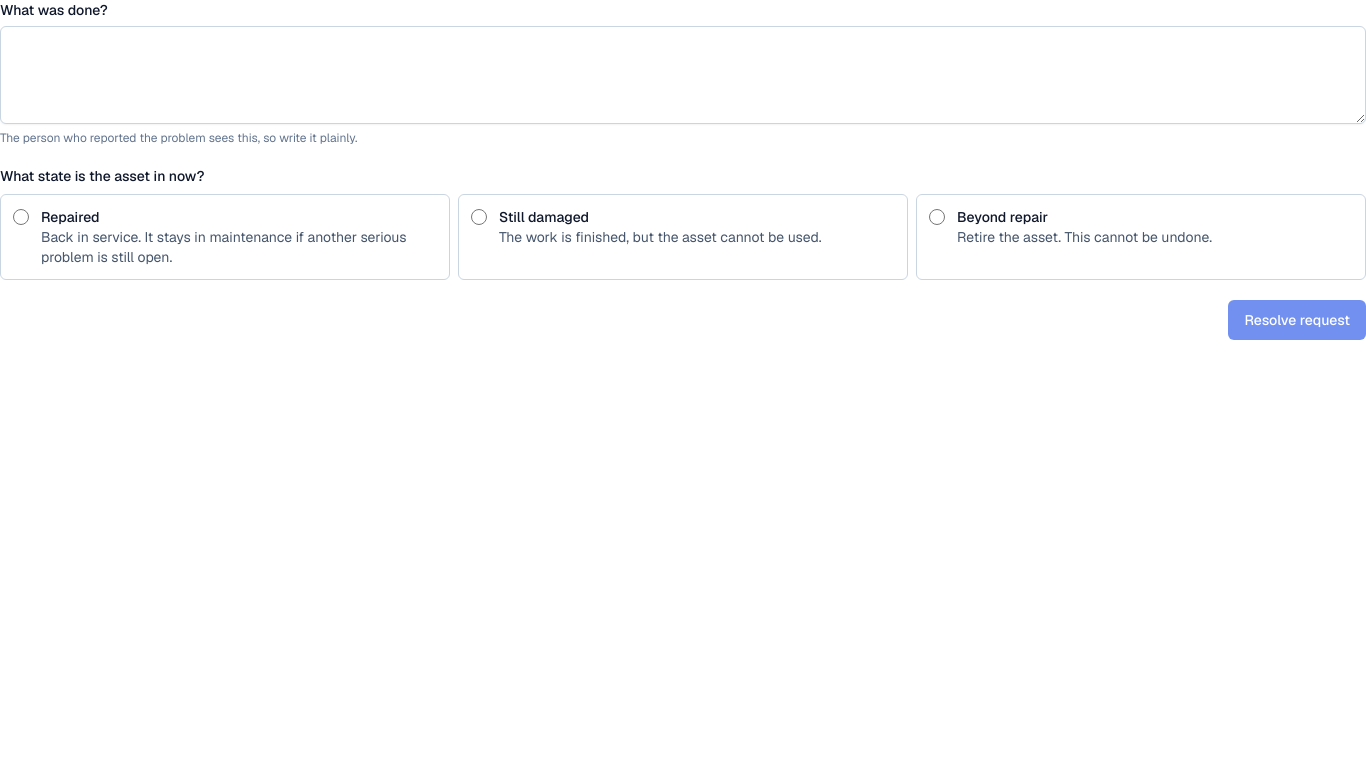
ResolveForm › asks_before_retiring_the_asset
In the text box labelled "What was done?": (683, 75) left=0, top=26, right=1365, bottom=124, type "Board burnt out"
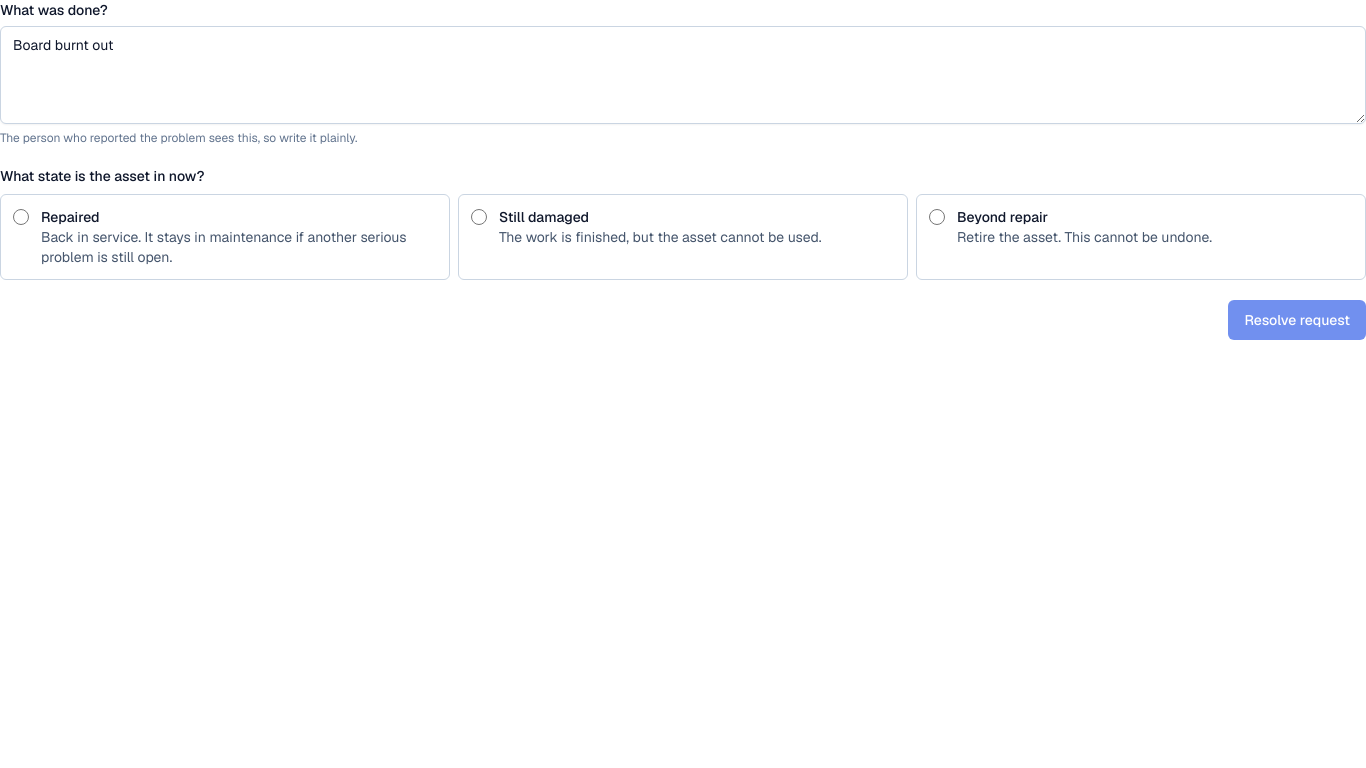
Click the radio button labelled "Beyond repair Retire the asset. This cannot be undone.": (937, 217) left=929, top=209, right=945, bottom=225
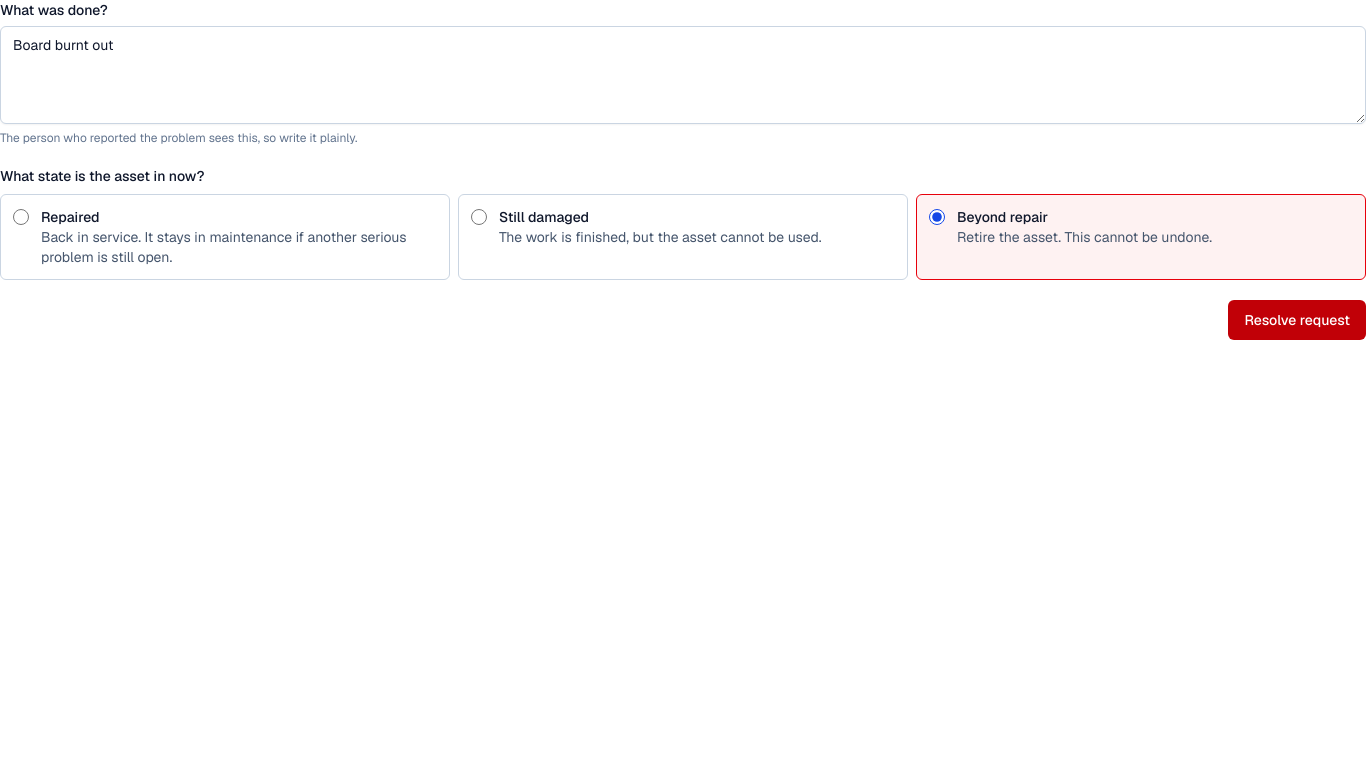
Click the button "Resolve request": (1297, 320) left=1228, top=300, right=1365, bottom=340
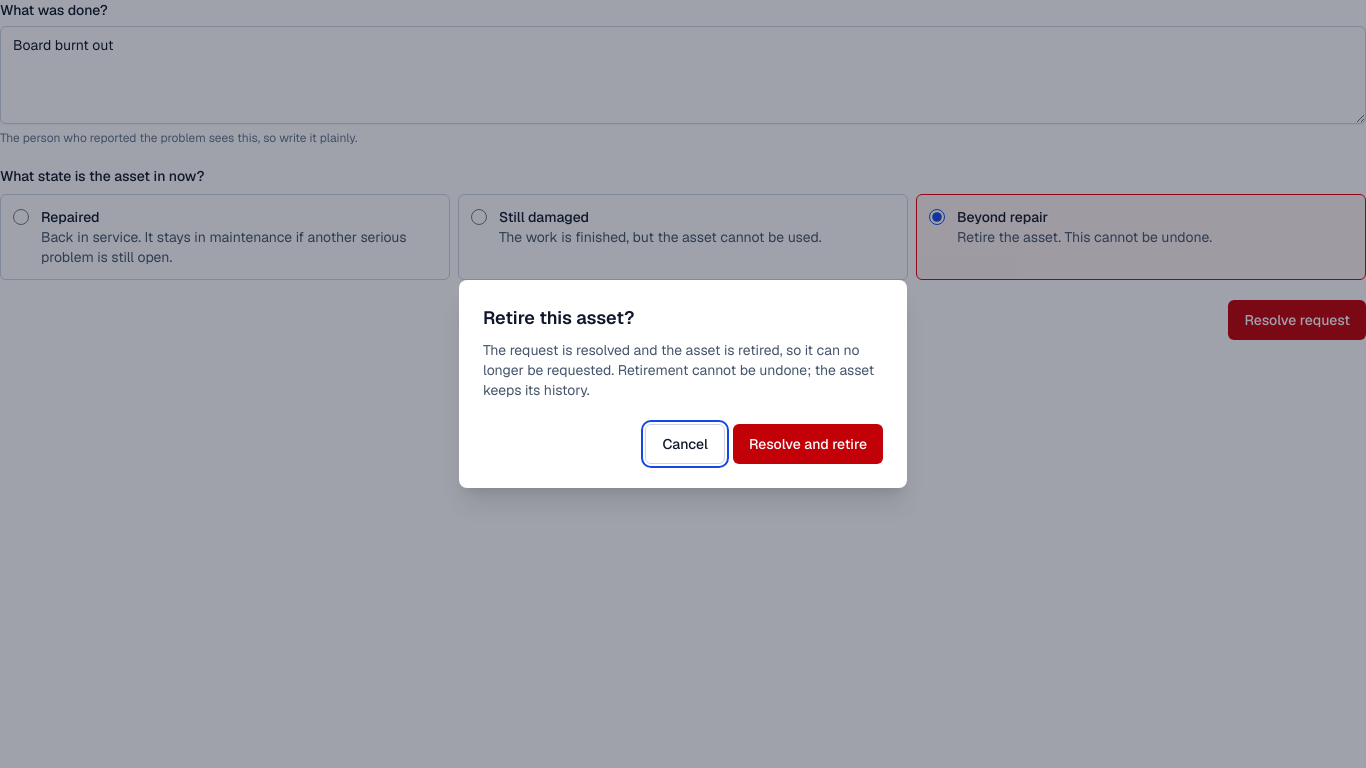
Click the button "Resolve and retire": (808, 444) left=733, top=424, right=883, bottom=464
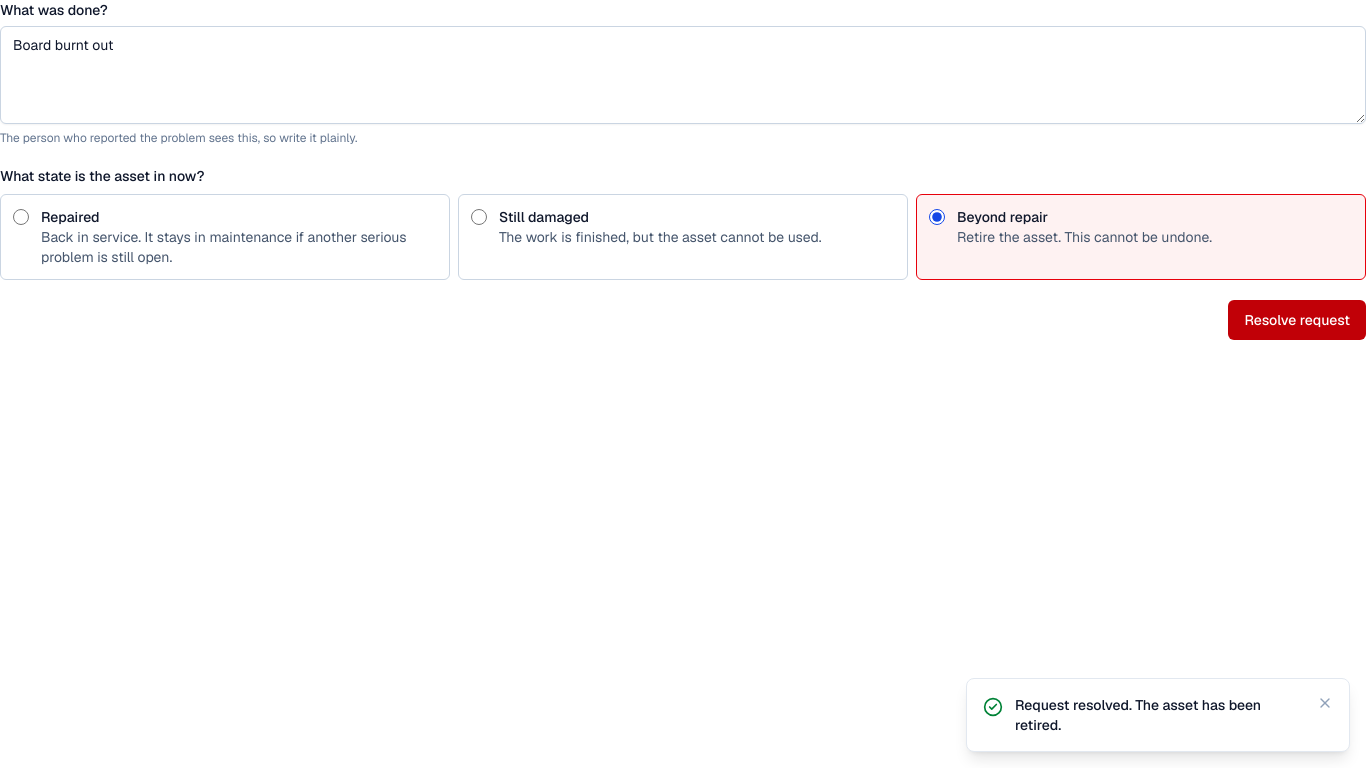
Expected: the message shows "The asset has been retired.", left=1015, top=696, right=1261, bottom=734
